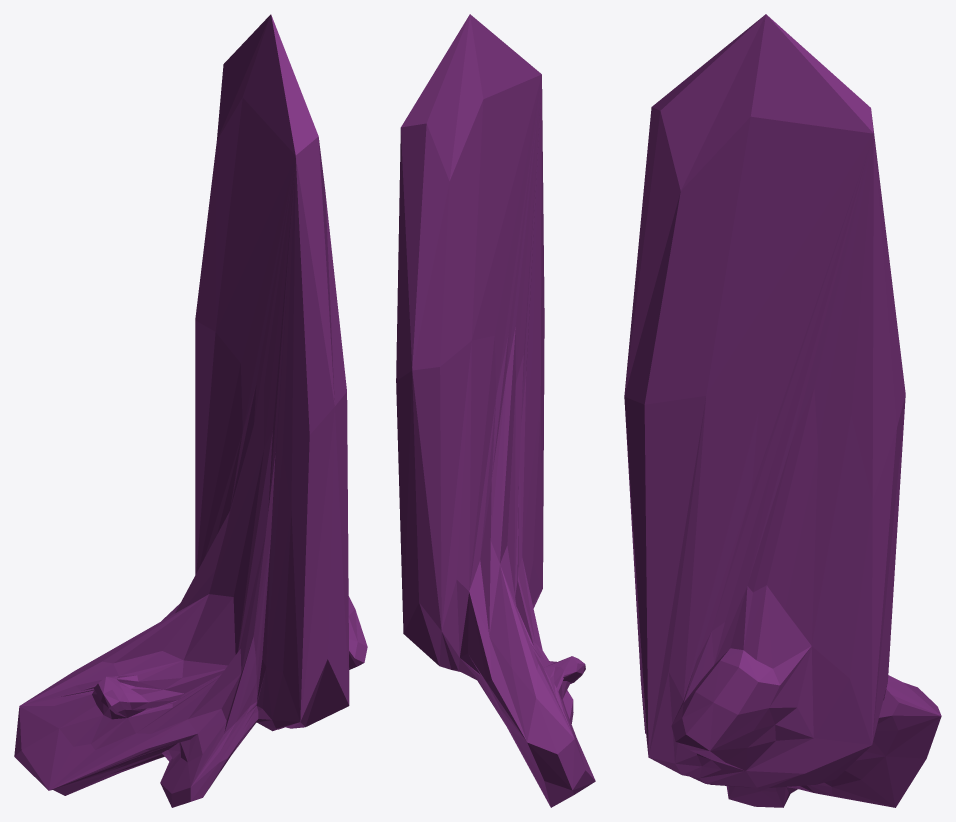
The picture shows the model from 3 angles, left to right: view 1: azimuth 30°, elevation 25°; view 2: azimuth 150°, elevation 25°; view 3: azimuth 270°, elevation 25°; orthographic projection. The views are drawn at different scales.
Parts seen in each view (by area): view 1: 659_Cube.2647; view 2: 659_Cube.2647; view 3: 659_Cube.2647.
Part boxes in pixels (<box>): 659_Cube.2647: <box>14,14,367,807</box>; 659_Cube.2647: <box>396,14,595,807</box>; 659_Cube.2647: <box>624,14,941,807</box>.
Size of the model in its own units: 4.64 by 13.7 by 4.51.
